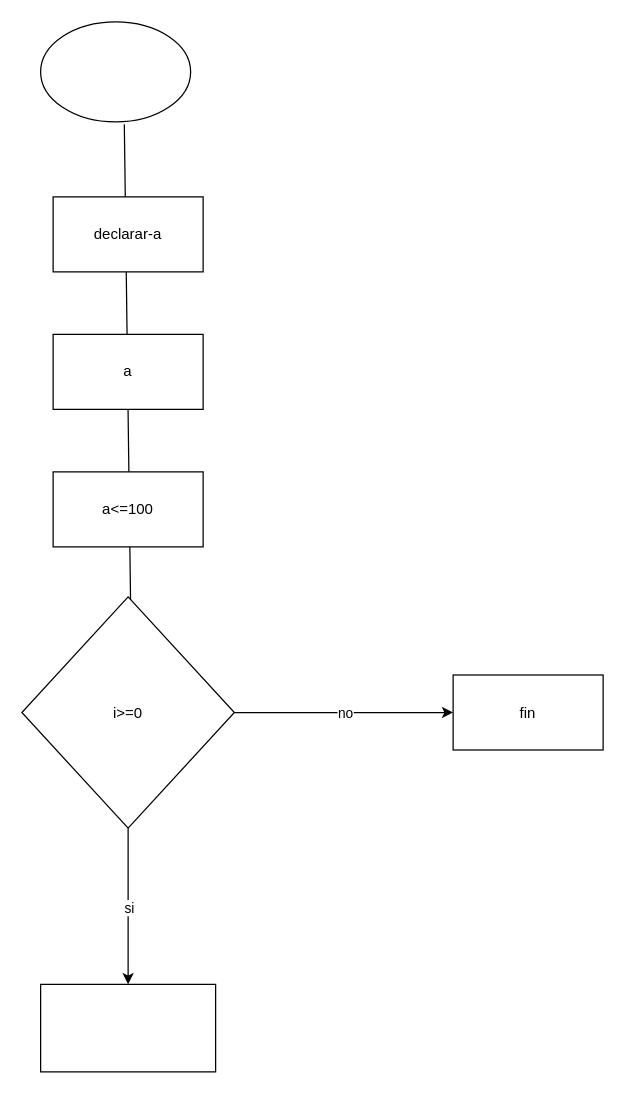
This 625x1094 diagram has some shape labels left out. Here are the shapes that lost their labels. From the top down, the centre of each, then its label:
At point 115,71: "inicio".
At point 127,1027: "i--".
